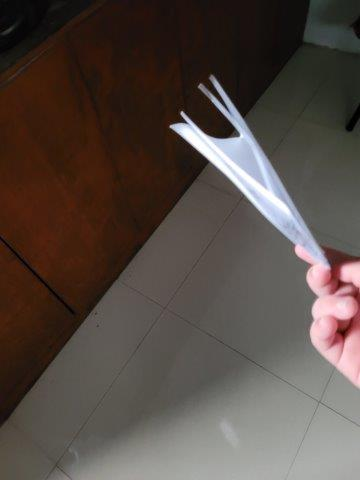kertas: (168, 74, 334, 269)
